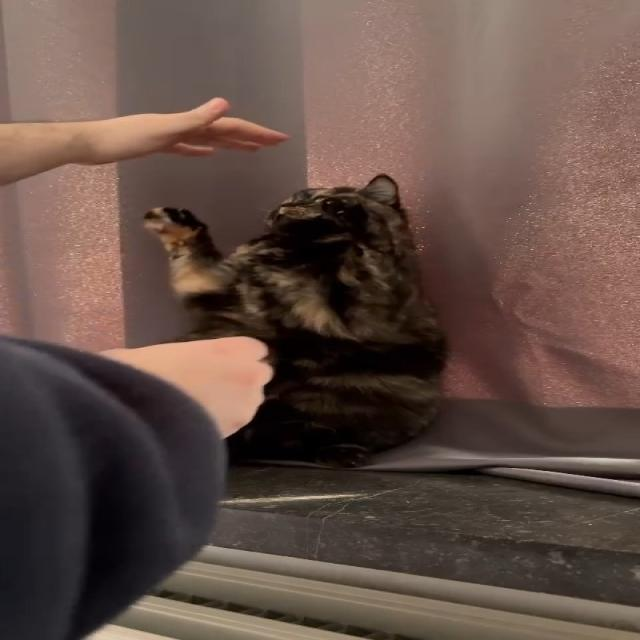authorized: (139, 172, 449, 470)
